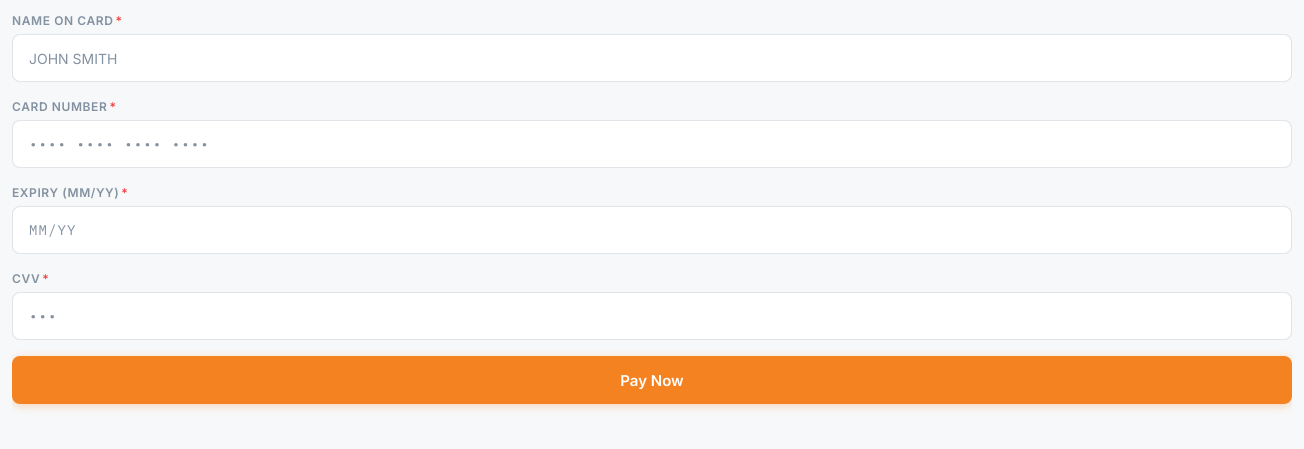
Scenario: CreditCardForm › does not submit when name is empty
Type "4111111111111111" into the field with placeholder "•••• •••• •••• ••••" at (652, 144), box [12, 120, 1292, 168]
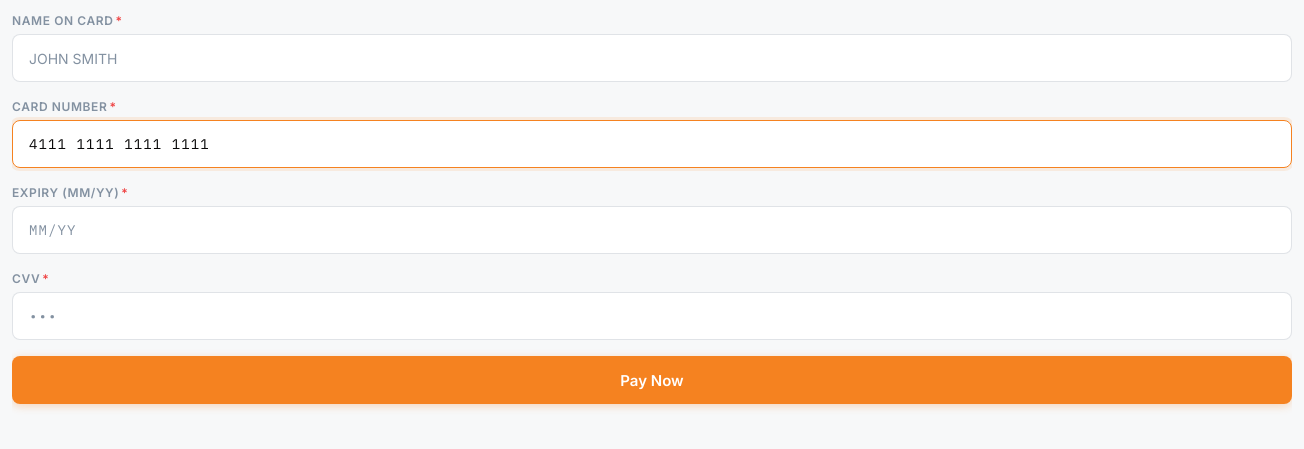
Type "12/28" into the field with placeholder "MM/YY" at (652, 230), box [12, 206, 1292, 254]
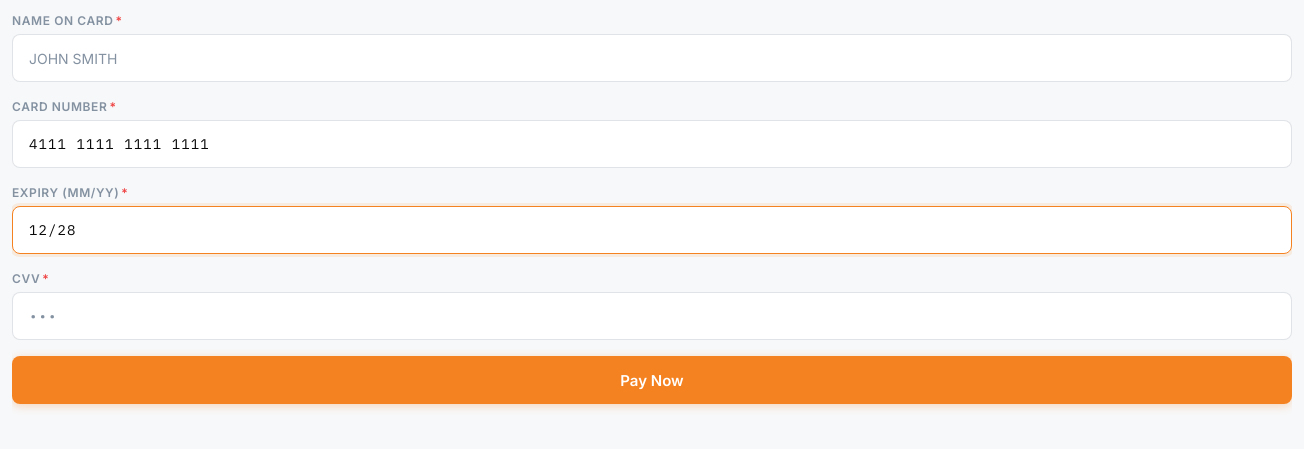
Type "123" into the password field with placeholder "•••" at (652, 316), box [12, 292, 1292, 340]
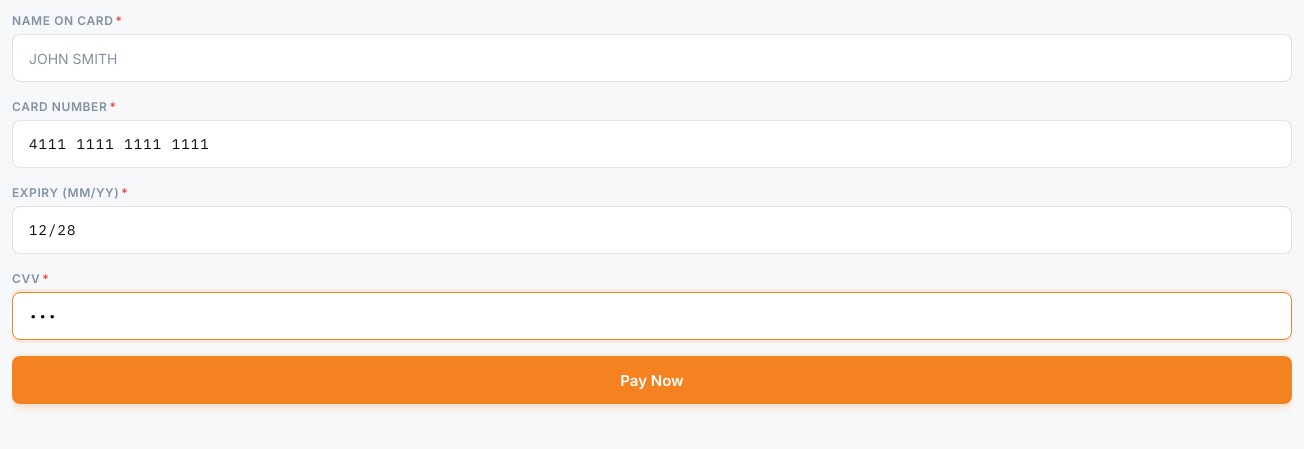
Click the button "Pay Now" at (652, 380), box [12, 356, 1292, 404]
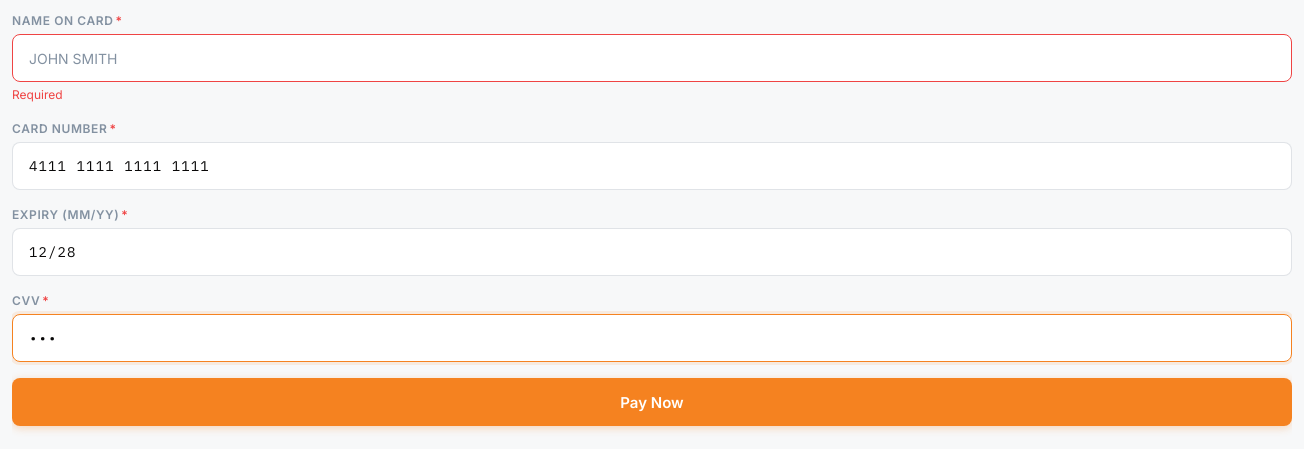
Result: the text "Required" is shown at [12, 87, 63, 102]
